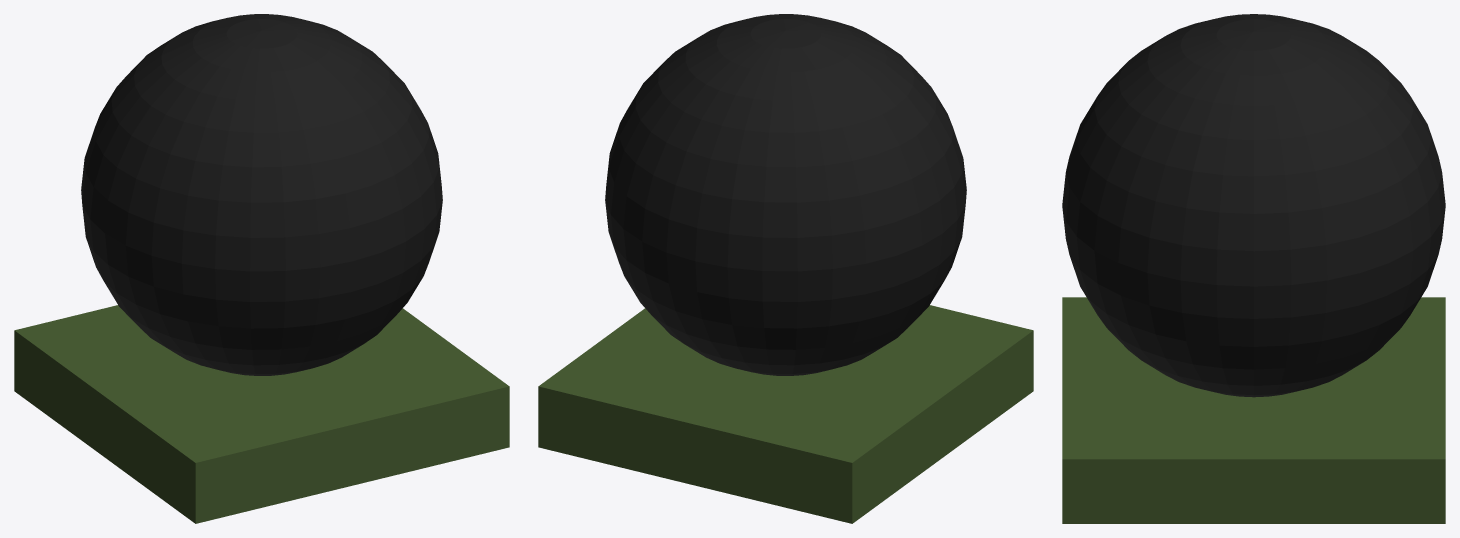
Rendered from modternart.glb.
The picture shows the model from 3 angles, left to right: view 1: azimuth 30°, elevation 25°; view 2: azimuth 150°, elevation 25°; view 3: azimuth 270°, elevation 25°; orthographic projection. The views are drawn at different scales.
Parts seen in each view (by area): view 1: Sphere, Cube; view 2: Sphere, Cube; view 3: Sphere, Cube.
Boxes of the visible parts, x1,y1,x2,y2 form: Sphere: [81, 14, 442, 375]; Cube: [14, 305, 509, 523]; Sphere: [605, 14, 966, 375]; Cube: [538, 305, 1033, 523]; Sphere: [1062, 14, 1445, 397]; Cube: [1062, 297, 1445, 523].
Size of the model in its own units: 0.4362 by 0.5158 by 0.4362.
